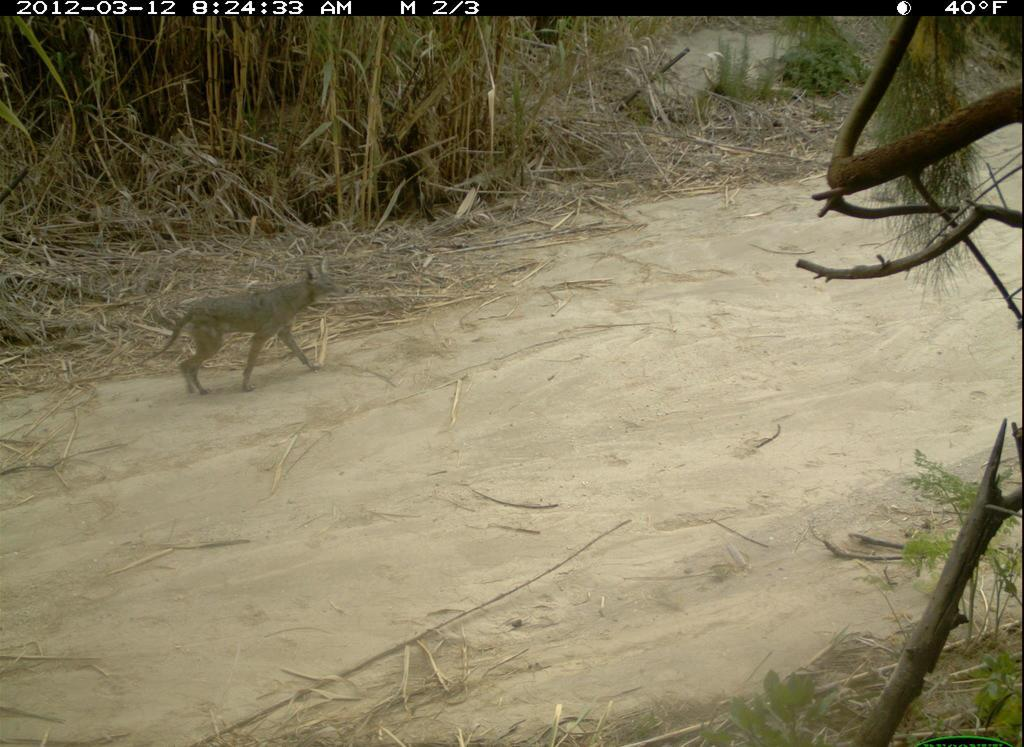coyote: (141, 254, 354, 401)
